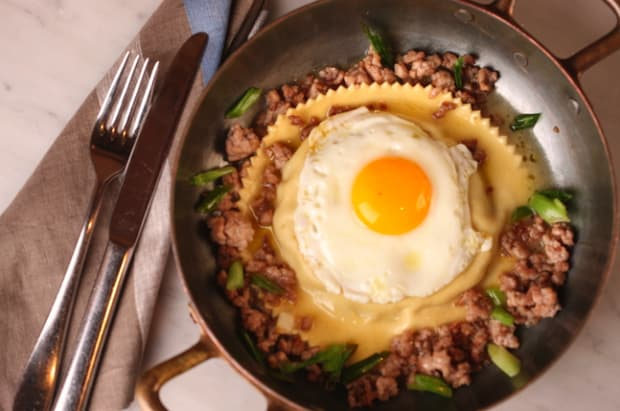fried egg: (312, 130, 458, 279)
